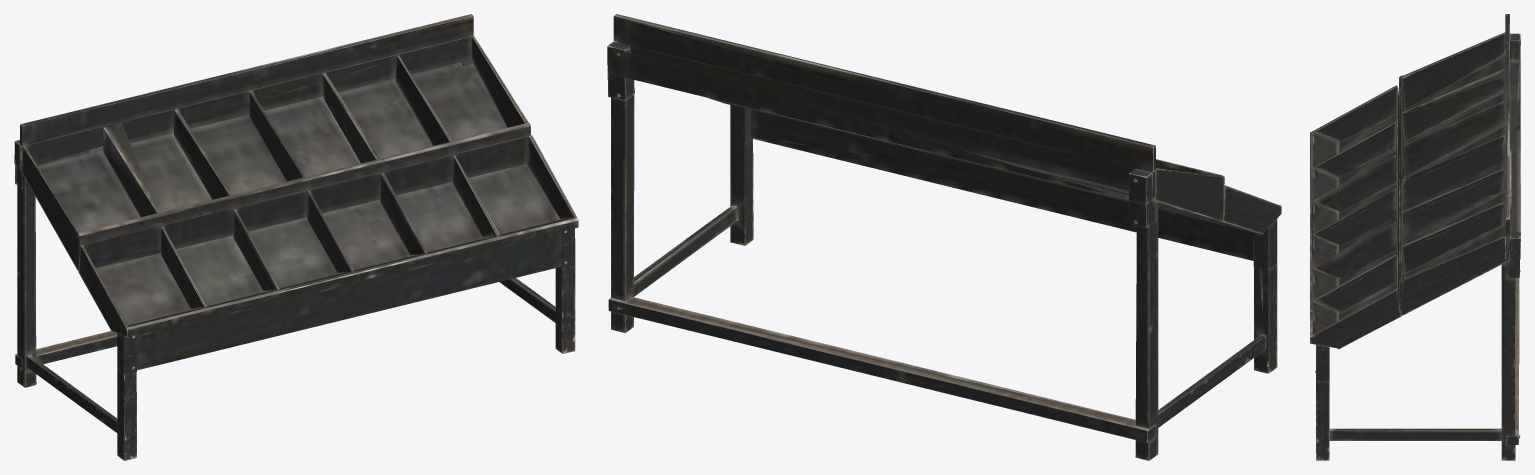
File: skyways-d-mu-bins.glb
The picture shows the model from 3 angles, left to right: view 1: azimuth 30°, elevation 25°; view 2: azimuth 150°, elevation 25°; view 3: azimuth 270°, elevation 25°; orthographic projection. The views are drawn at different scales.
Parts seen in each view (by area): view 1: skyways-d-mu-bins; view 2: skyways-d-mu-bins; view 3: skyways-d-mu-bins.
Part boxes in pixels (<box>): skyways-d-mu-bins: <box>14,14,578,460</box>; skyways-d-mu-bins: <box>607,14,1281,460</box>; skyways-d-mu-bins: <box>1310,14,1520,460</box>.
Bounding box in the file's own units: 1.8 × 0.9918 × 0.7805.
Materials: 1 (1 with a texture image).
